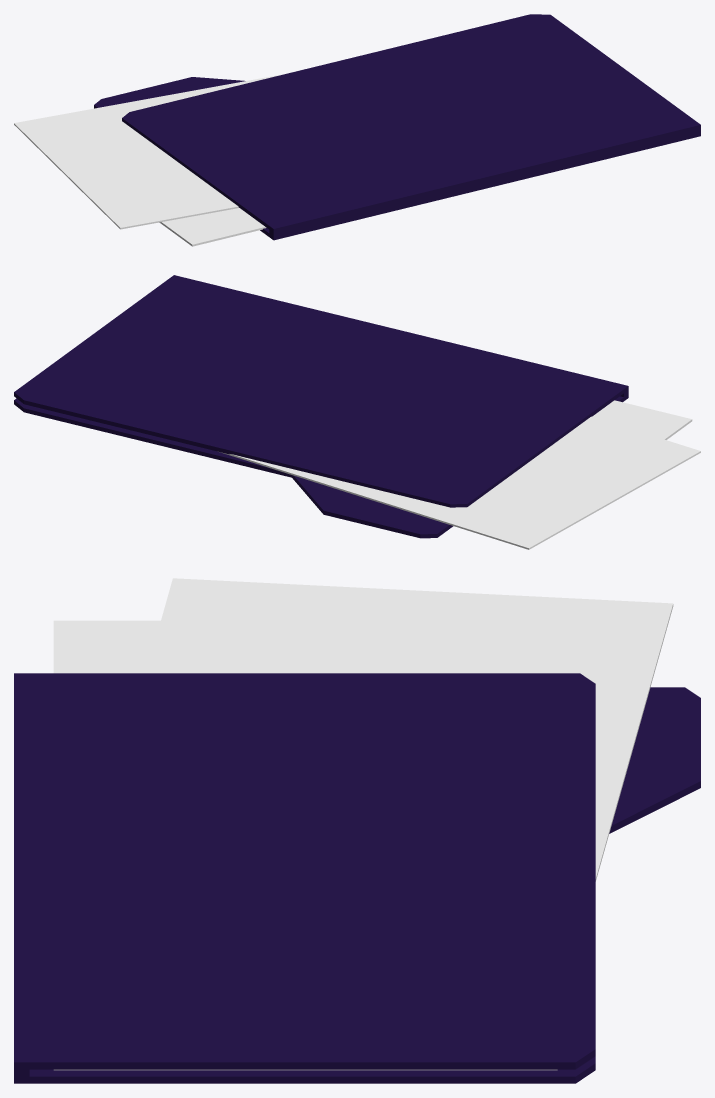
Rendered from Pasta.fbx.
3 views of the same model, one above another, from view 1: azimuth 30°, elevation 25°; view 2: azimuth 150°, elevation 25°; view 3: azimuth 270°, elevation 25° (orthographic). The views are drawn at different scales.
Parts seen in each view (by area): view 1: Cube, Plane; view 2: Cube, Plane; view 3: Cube, Plane.
Boxes of the visible parts, x1,y1,x2,y2 form: Cube: (94, 14, 700, 240); Plane: (14, 74, 284, 246); Cube: (14, 275, 628, 538); Plane: (218, 400, 700, 549); Cube: (14, 673, 700, 1083); Plane: (53, 578, 673, 1070).
Bounding box in the file's own units: 655 × 13.26 × 388.
